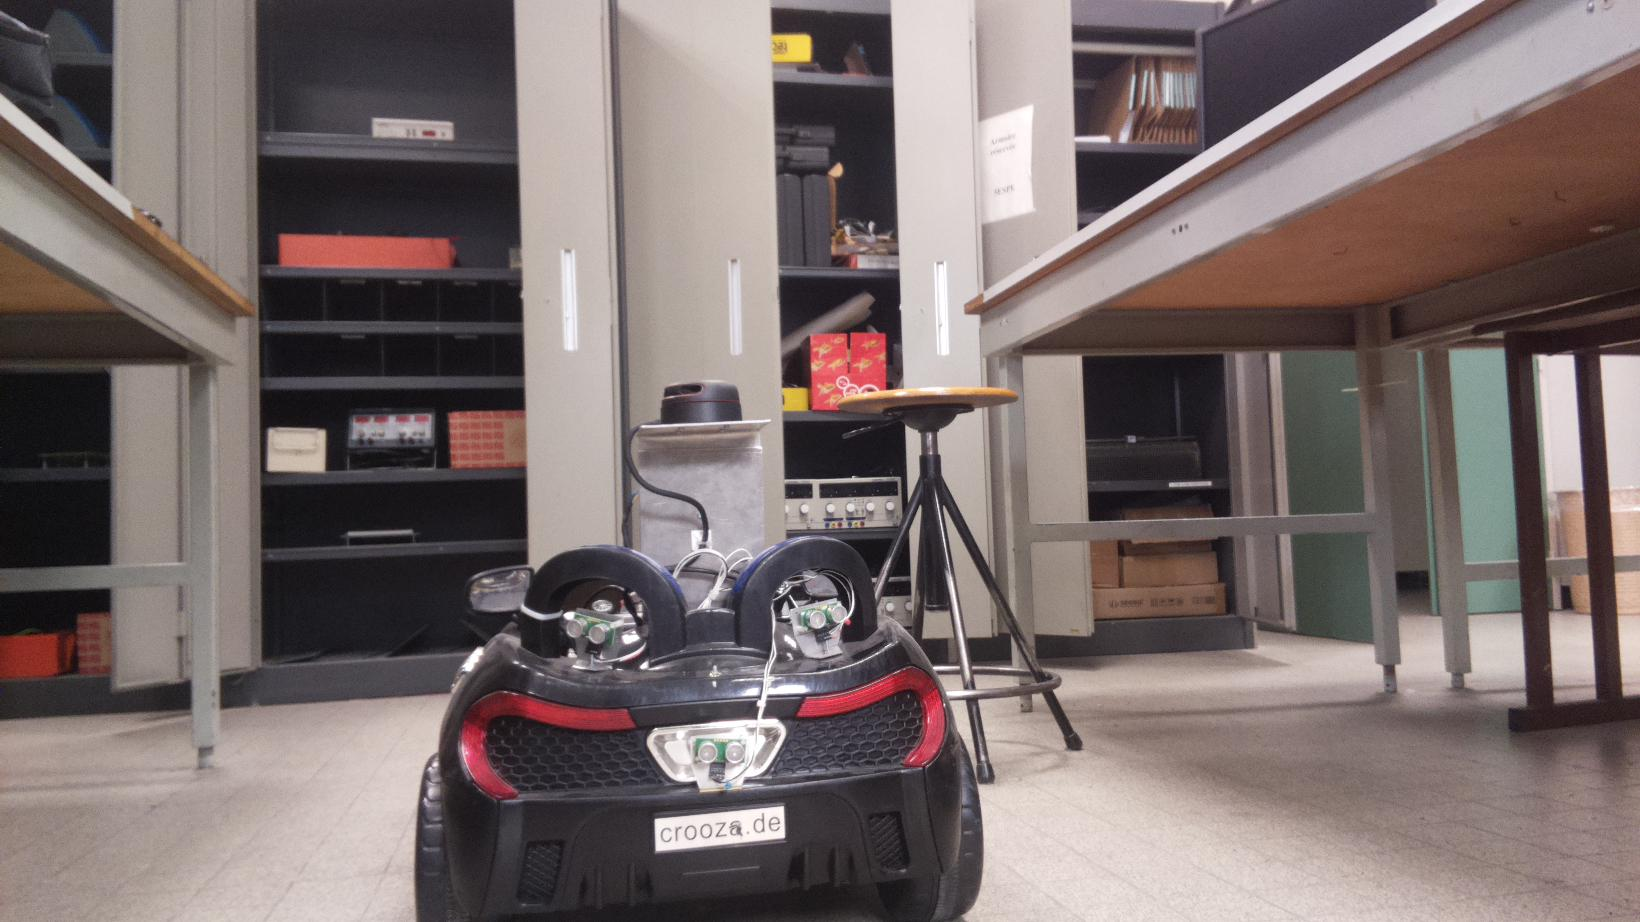big: (411, 376, 990, 922)
